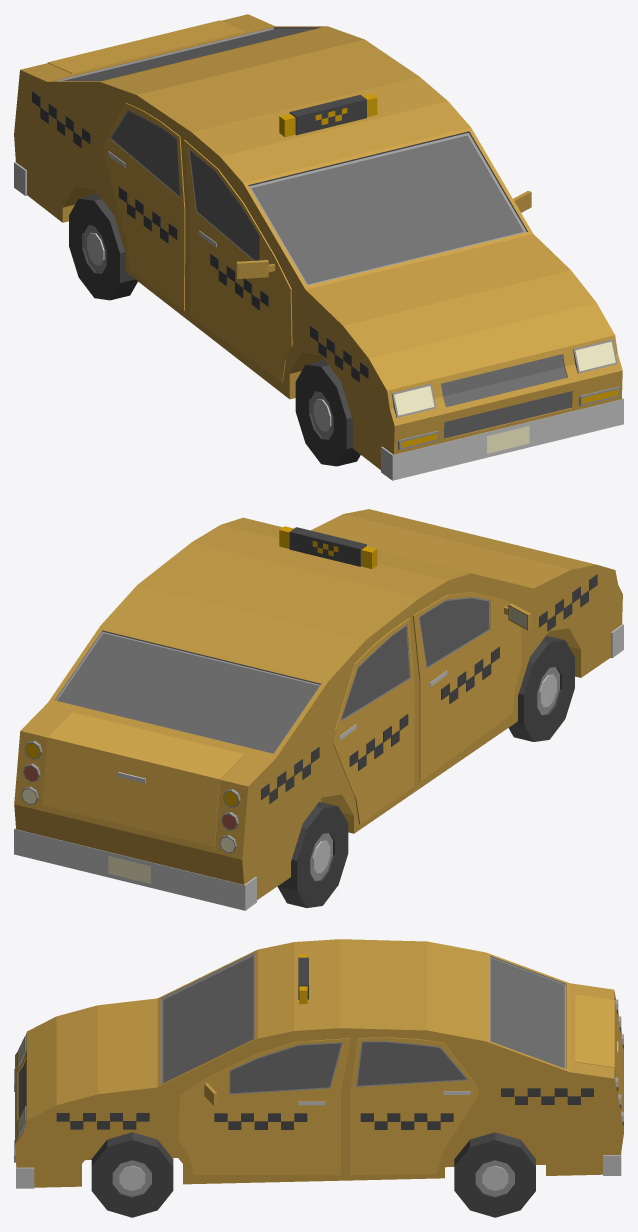
File: Taxi_1.fbx
The picture shows the model from 3 angles, top to bottom: view 1: azimuth 30°, elevation 25°; view 2: azimuth 150°, elevation 25°; view 3: azimuth 270°, elevation 25°; orthographic projection. The views are drawn at different scales.
Parts seen in each view (by area): view 1: et_1, Cylinder_2_1, Cylinder_2_1_2; view 2: et_1, Cylinder_2_1, Cylinder_2_1_2; view 3: et_1, Cylinder_2_2, Cylinder_2.
Boxes of the visible parts, left/top/right/bottom form: et_1: left=14, top=14, right=623, bottom=480; Cylinder_2_1: left=69, top=194, right=137, bottom=300; Cylinder_2_1_2: left=295, top=360, right=360, bottom=466; et_1: left=14, top=509, right=623, bottom=910; Cylinder_2_1: left=277, top=801, right=348, bottom=907; Cylinder_2_1_2: left=509, top=635, right=574, bottom=741; et_1: left=14, top=939, right=623, bottom=1188; Cylinder_2_2: left=91, top=1132, right=173, bottom=1217; Cylinder_2: left=454, top=1132, right=535, bottom=1217.
Bounding box in the file's own units: 169 × 138 × 379.
